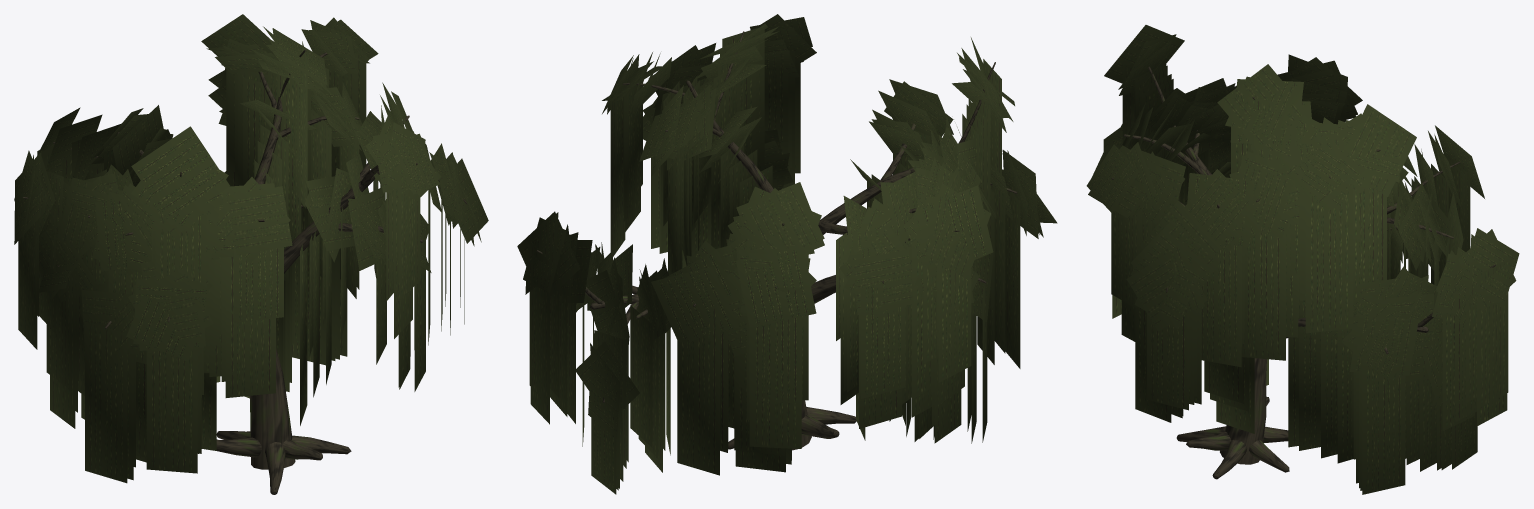
Rendered from MarshWillow_1.gltf.
3 renders of one model, left to right at view 1: azimuth 30°, elevation 25°; view 2: azimuth 150°, elevation 25°; view 3: azimuth 270°, elevation 25°, orthographic. The views are drawn at different scales.
Visible parts, largest first — view 1: MarshWillow_1; view 2: MarshWillow_1; view 3: MarshWillow_1.
Part boxes in pixels (x1,y1,x2,y2): MarshWillow_1: (14, 14, 488, 494); MarshWillow_1: (517, 14, 1057, 494); MarshWillow_1: (1086, 25, 1519, 494).
Bounding box in the file's own units: 10.93 × 10.82 × 10.66.
2 materials, 2 textured.
